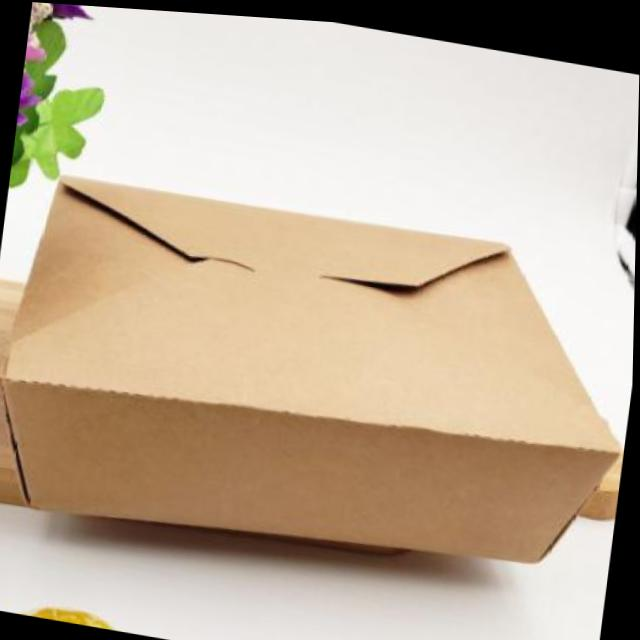box: (0, 123, 638, 633)
